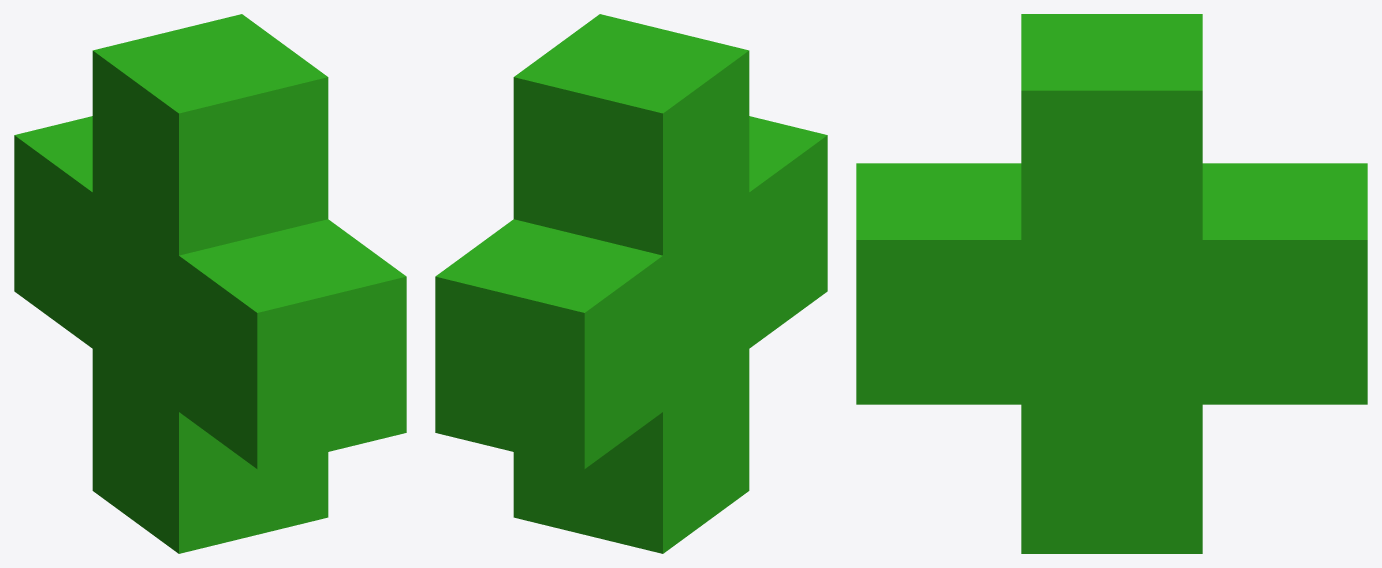
The model's file is health_pickup.fbx.
The picture shows the model from 3 angles, left to right: view 1: azimuth 30°, elevation 25°; view 2: azimuth 150°, elevation 25°; view 3: azimuth 270°, elevation 25°; orthographic projection. The views are drawn at different scales.
Visible parts, largest first — view 1: health; view 2: health; view 3: health.
Part boxes in pixels (x1,y1,x2,y2): health: (14, 14, 406, 553); health: (435, 14, 827, 553); health: (856, 14, 1367, 553).
Bounding box in the file's own units: 22 × 62 × 62.
